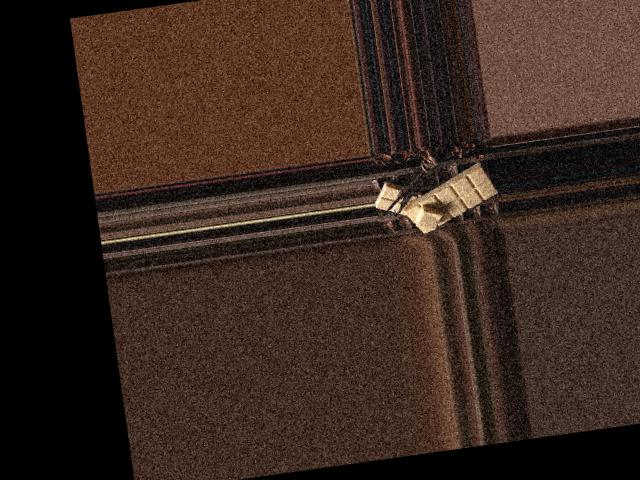chocolate: (396, 162, 500, 235)
